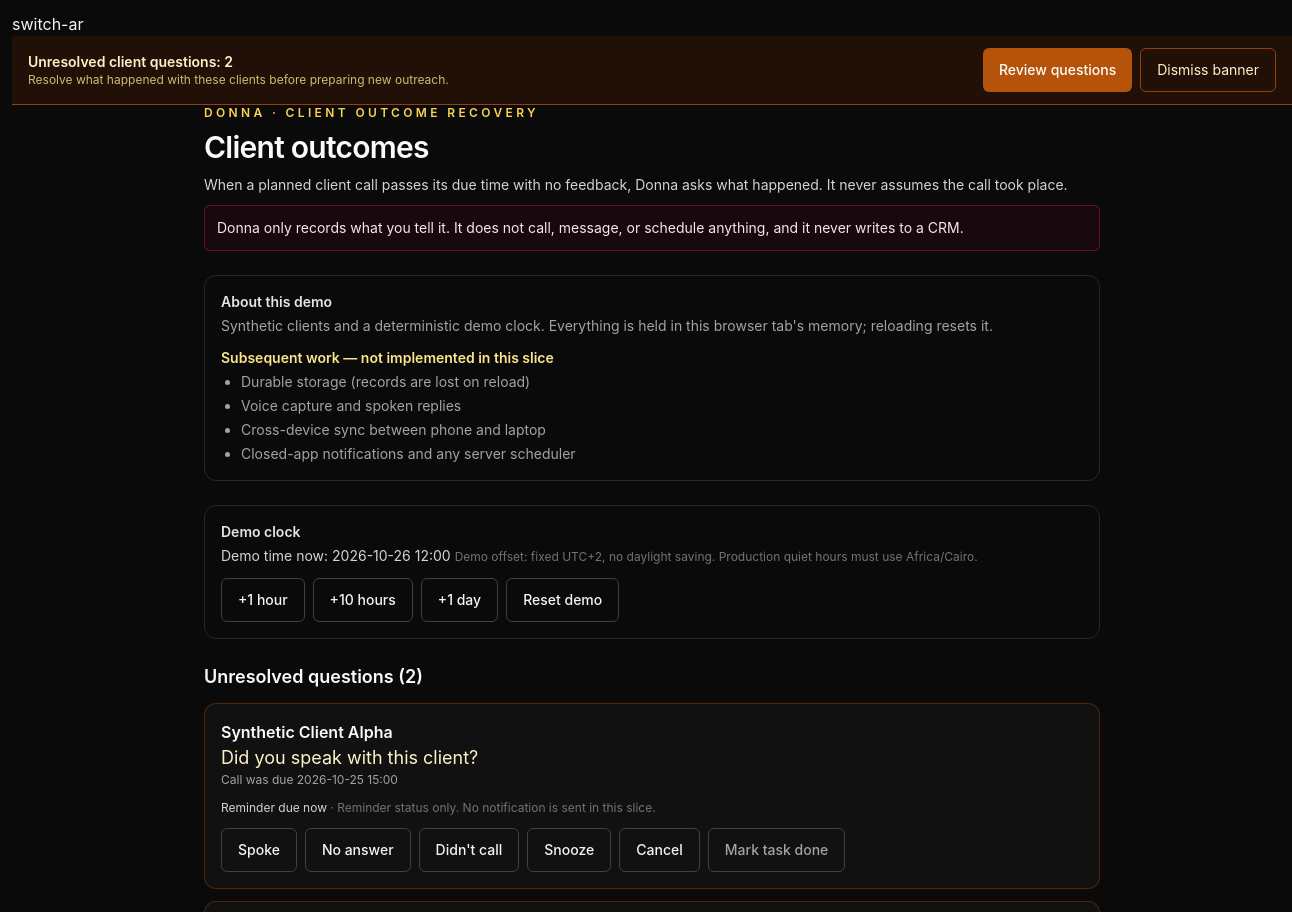
Donna inbox (English) › holds the reminder in quiet hours without hiding the question
Click the button "+10 hours" at (363,600), box [313, 578, 413, 622]
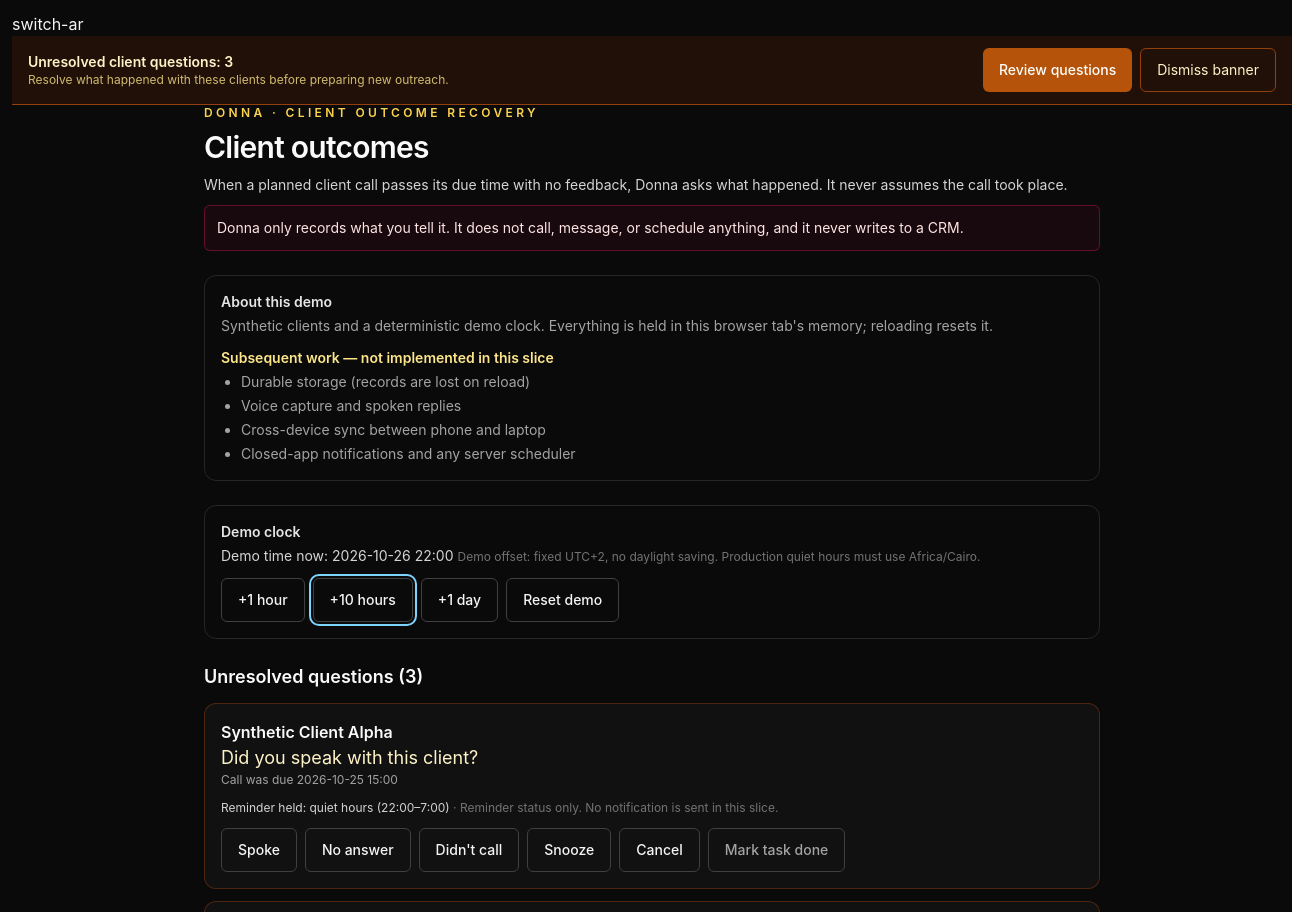
Expected: the element with test id "donna-question-call-alpha" is shown, [204, 703, 1100, 889]
Now the element with test id "donna-reminder-call-alpha" shows "Reminder held: quiet hours (22:00–7:00)", box [221, 800, 450, 815]
